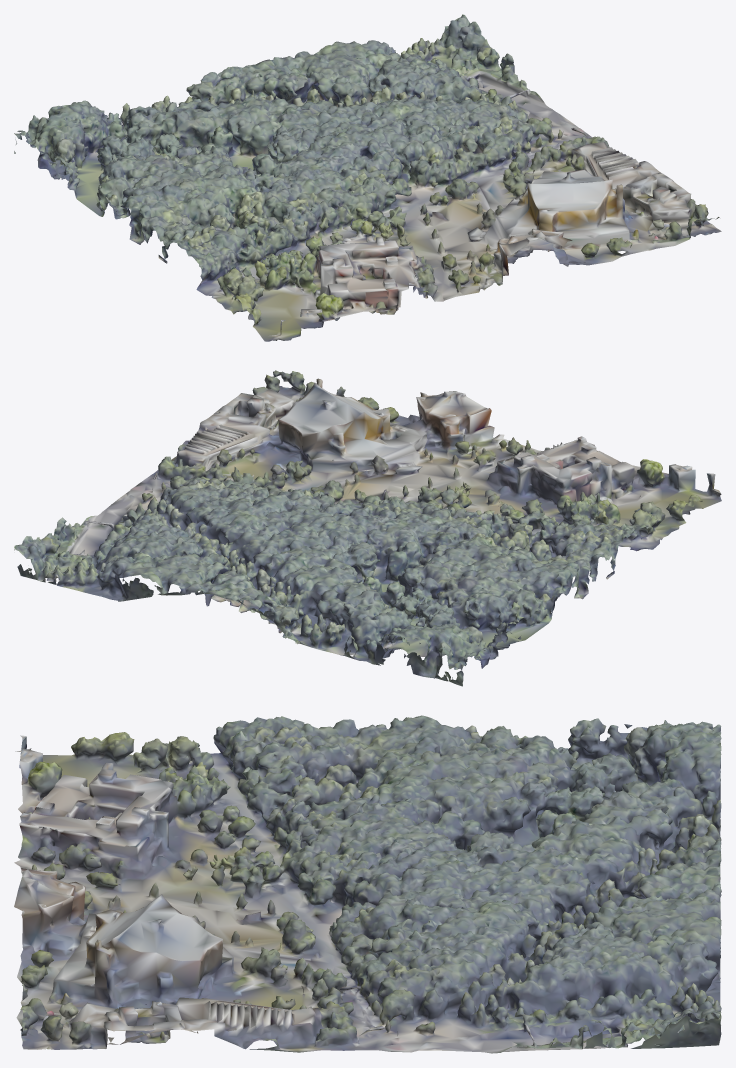
Rendered from tile-3890_58189.glb.
The picture shows the model from 3 angles, top to bottom: view 1: azimuth 30°, elevation 25°; view 2: azimuth 150°, elevation 25°; view 3: azimuth 270°, elevation 25°; orthographic projection. The views are drawn at different scales.
Parts seen in each view (by area): view 1: world; view 2: world; view 3: world.
Part boxes in pixels (left/top/right/bottom): world: left=14, top=14, right=721, bottom=341; world: left=14, top=370, right=721, bottom=686; world: left=14, top=715, right=721, bottom=1053.
Size of the model in its own units: 365 by 42.38 by 366.
